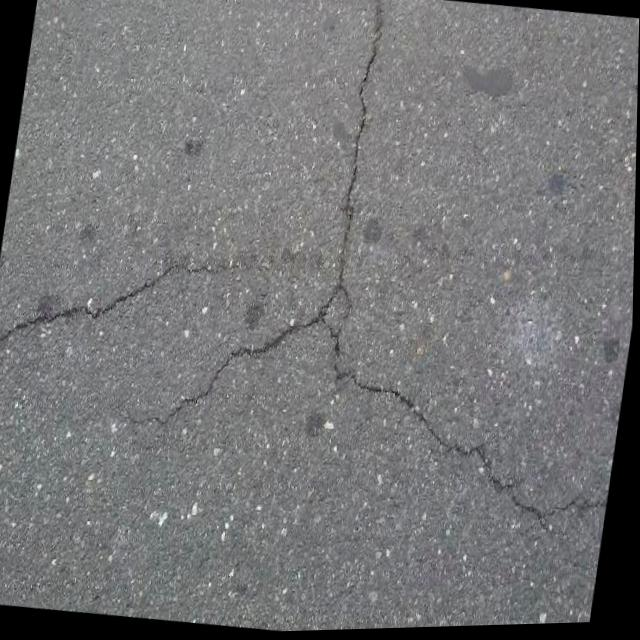Crack: (167, 292, 632, 557), (0, 221, 231, 408), (314, 0, 402, 340)
